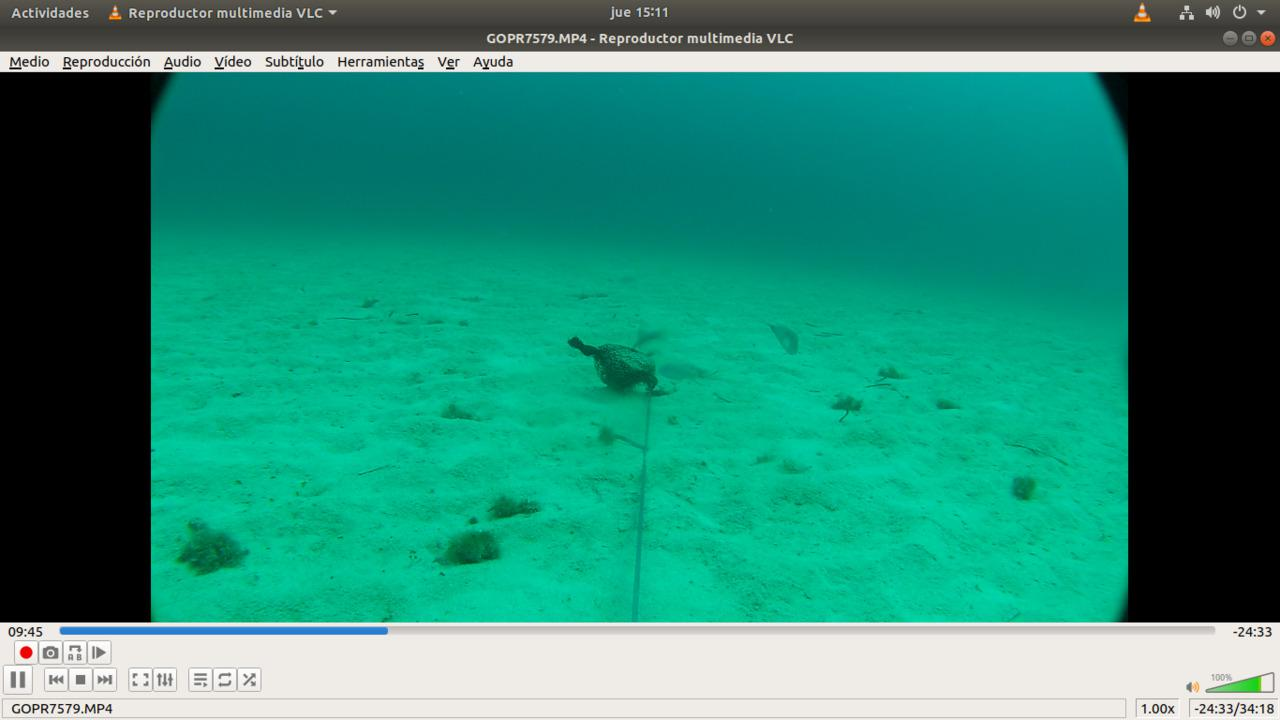raor: (753, 313, 809, 355)
